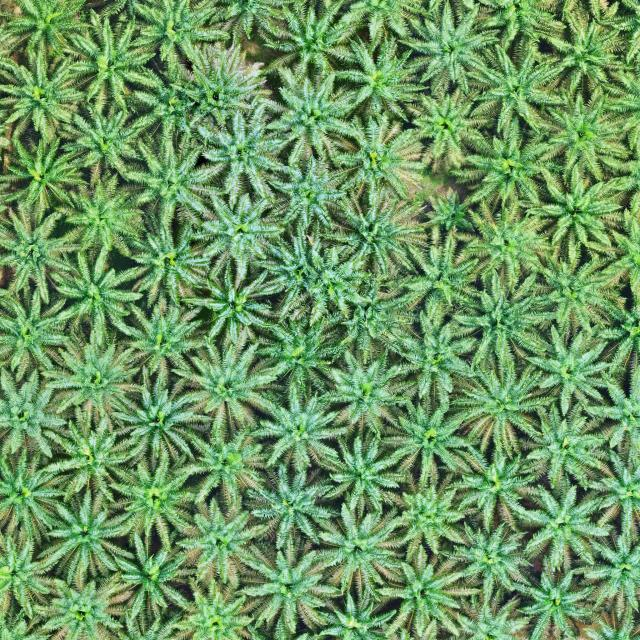Tree: (254, 221, 376, 325), (164, 323, 281, 429), (464, 29, 572, 138), (194, 95, 300, 206), (106, 441, 209, 554), (371, 540, 486, 640), (258, 70, 375, 168), (119, 124, 233, 224), (306, 494, 412, 601), (518, 166, 624, 270), (31, 485, 138, 588), (448, 357, 555, 459), (380, 459, 484, 562), (448, 269, 551, 372), (325, 181, 434, 278), (109, 368, 205, 478), (312, 341, 419, 439), (56, 12, 157, 115), (239, 533, 342, 633), (448, 119, 552, 217), (170, 34, 276, 130), (383, 393, 486, 491), (525, 7, 626, 106), (524, 248, 635, 338), (247, 380, 352, 475), (397, 1, 503, 95), (38, 413, 138, 512), (167, 421, 272, 513), (521, 321, 620, 418), (170, 494, 272, 588), (392, 308, 484, 412), (334, 29, 432, 126), (49, 246, 144, 346), (39, 336, 139, 430), (329, 111, 427, 206), (245, 301, 348, 391), (113, 215, 209, 311), (393, 229, 487, 327), (184, 189, 286, 279), (96, 526, 192, 621), (444, 439, 543, 531), (530, 92, 626, 185), (516, 481, 616, 570), (437, 516, 536, 604), (245, 460, 343, 548), (308, 431, 408, 516), (185, 262, 288, 344), (259, 2, 364, 82), (58, 97, 150, 188), (53, 170, 148, 258), (260, 146, 352, 236), (0, 202, 81, 304), (0, 283, 81, 382), (404, 84, 493, 174), (522, 398, 608, 490), (0, 444, 74, 550), (112, 300, 206, 383), (0, 48, 81, 143), (510, 553, 598, 640), (336, 274, 419, 366), (31, 569, 138, 640), (128, 0, 240, 66), (457, 202, 547, 280), (0, 364, 71, 461), (0, 130, 83, 211), (571, 522, 640, 614), (128, 64, 198, 138), (582, 365, 640, 453), (1, 0, 91, 56), (588, 444, 640, 535), (417, 183, 478, 237), (639, 522, 640, 530)
